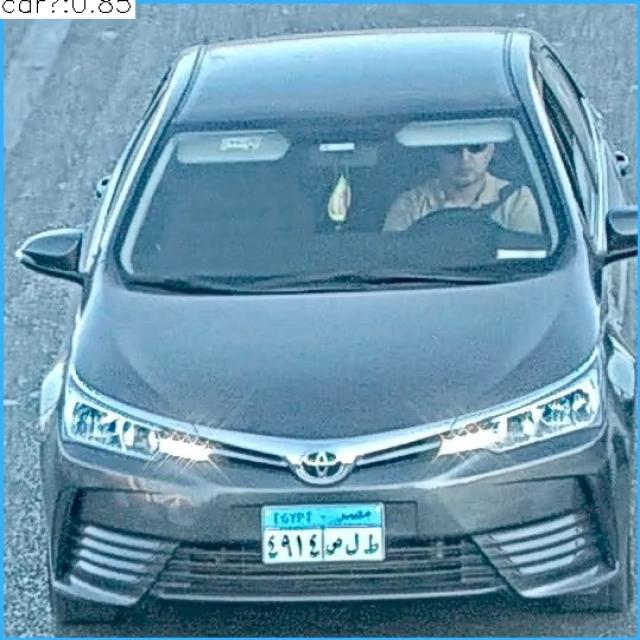windshield: (118, 123, 568, 278)
